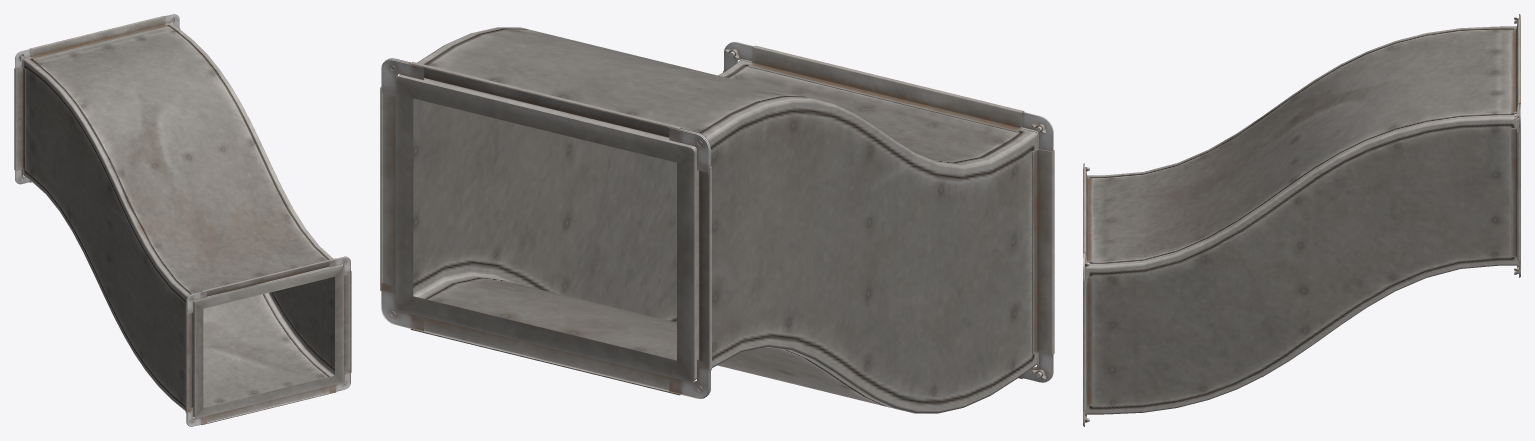
The model's file is transition_double_02.glb.
3 renders of one model, left to right at view 1: azimuth 30°, elevation 25°; view 2: azimuth 150°, elevation 25°; view 3: azimuth 270°, elevation 25°, orthographic. The views are drawn at different scales.
Parts seen in each view (by area): view 1: modular_airduct_rectangular_01_transition_double_02.001; view 2: modular_airduct_rectangular_01_transition_double_02.001; view 3: modular_airduct_rectangular_01_transition_double_02.001.
Boxes of the visible parts, x1,y1,x2,y2 form: modular_airduct_rectangular_01_transition_double_02.001: [14, 14, 351, 426]; modular_airduct_rectangular_01_transition_double_02.001: [380, 27, 1054, 413]; modular_airduct_rectangular_01_transition_double_02.001: [1083, 14, 1520, 426].
Bounding box in the file's own units: 0.6634 × 0.9627 × 1.2.
Materials: 2 (2 with a texture image).
